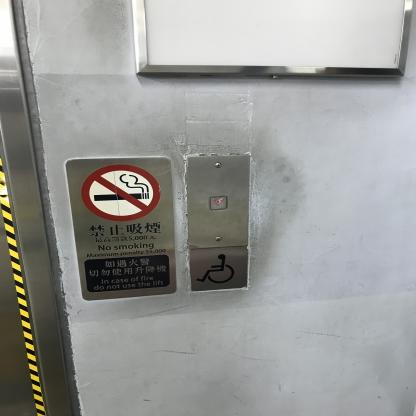down: (208, 195, 229, 211)
